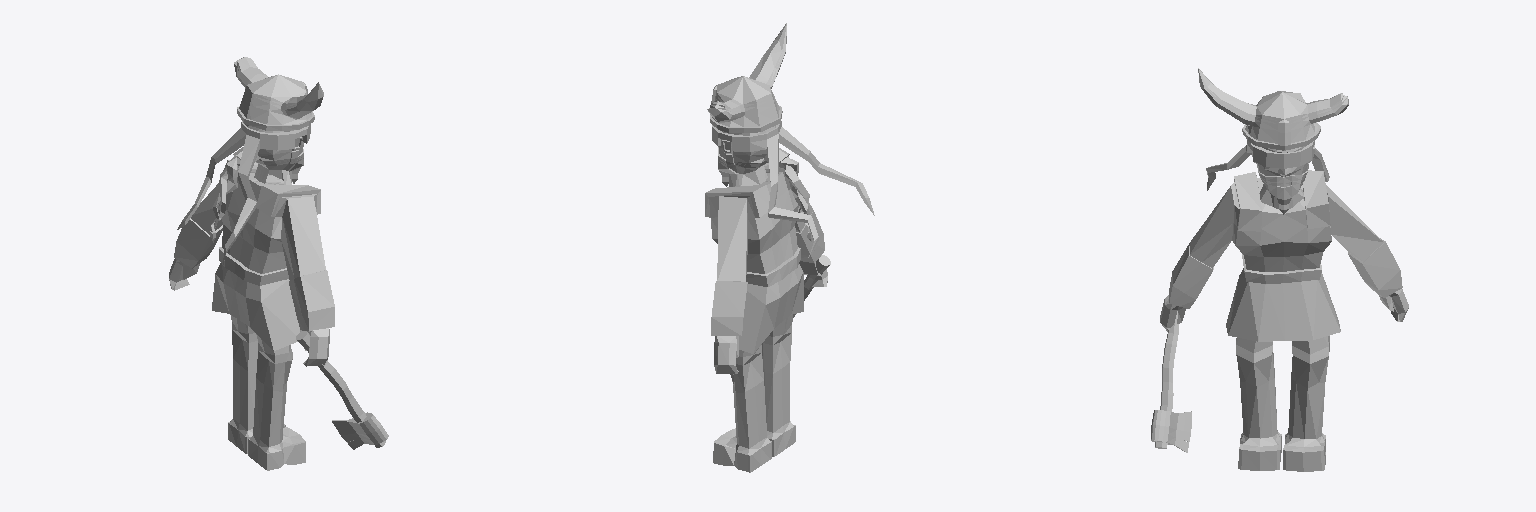
File: blind.obj
The picture shows the model from 3 angles: view 1: azimuth 30°, elevation 25°; view 2: azimuth 150°, elevation 25°; view 3: azimuth 270°, elevation 25°; orthographic projection.
Visible parts, largest first — view 1: Cube_Cube.001; view 2: Cube_Cube.001; view 3: Cube_Cube.001.
Part boxes in pixels (bbox=[...]): Cube_Cube.001: bbox=[169, 57, 388, 470]; Cube_Cube.001: bbox=[705, 23, 874, 472]; Cube_Cube.001: bbox=[1151, 68, 1408, 471].
Bounding box in the file's own units: 1.24 × 3.36 × 1.98.